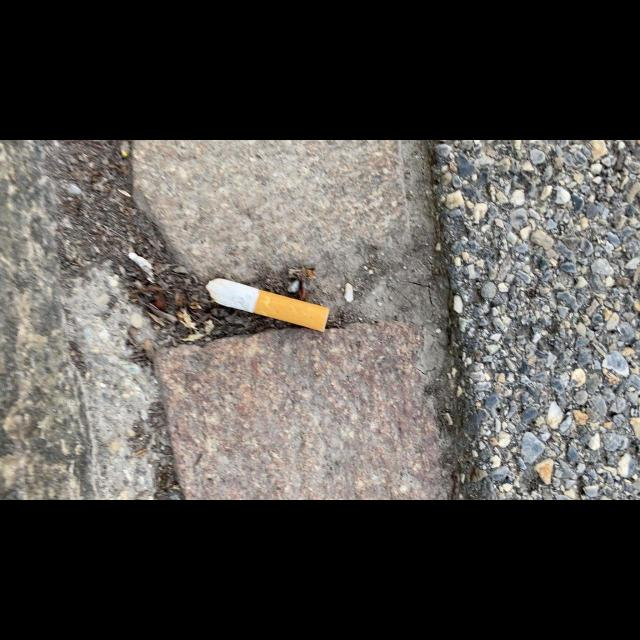cigarette: (204, 277, 330, 333)
